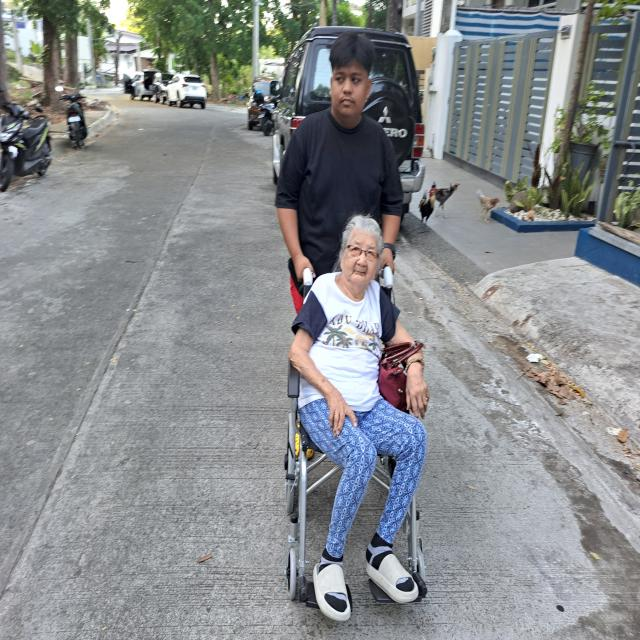wheelchairs: (286, 264, 432, 616)
